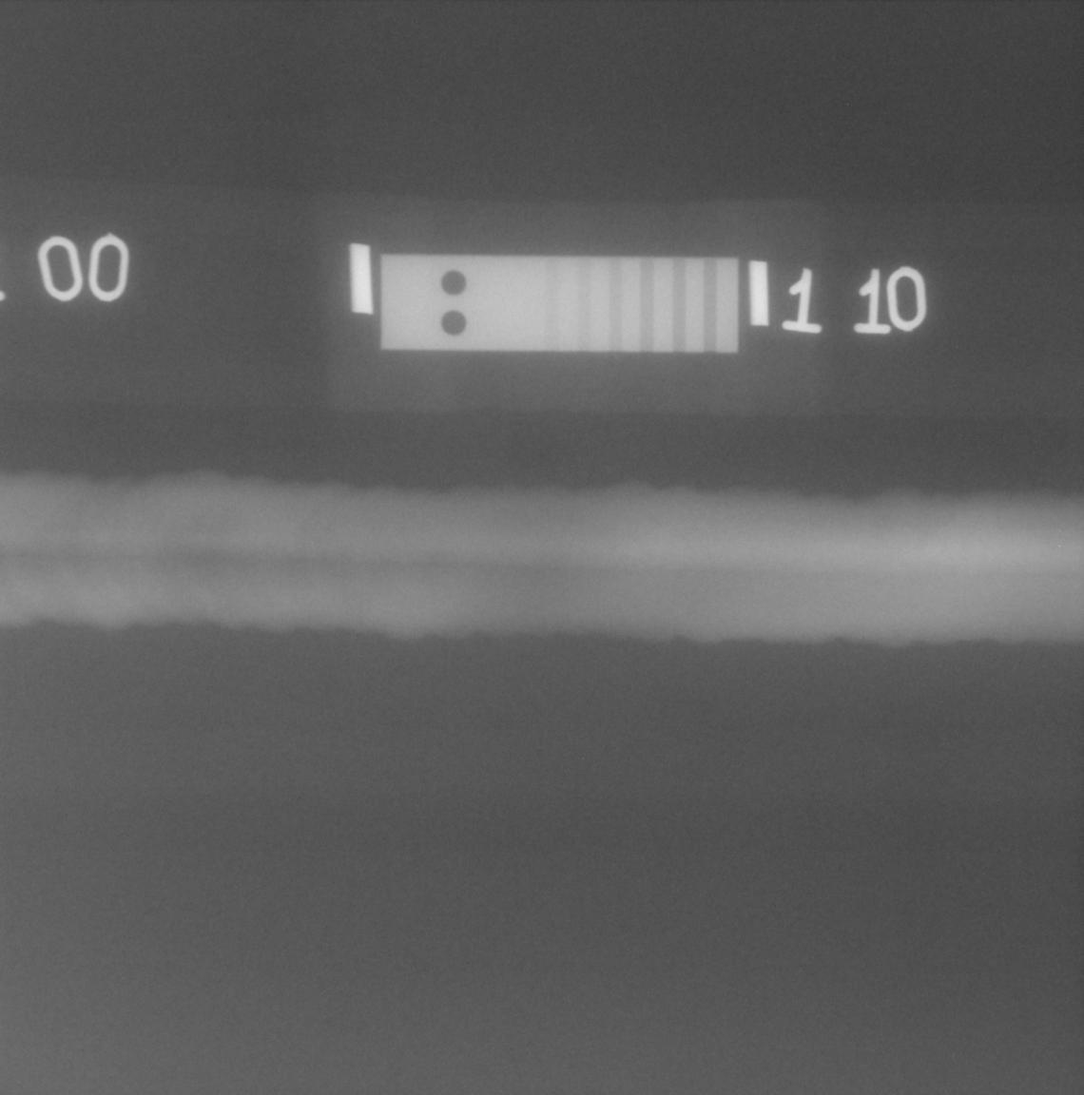Reference Standard 2: (380, 253, 738, 352)
